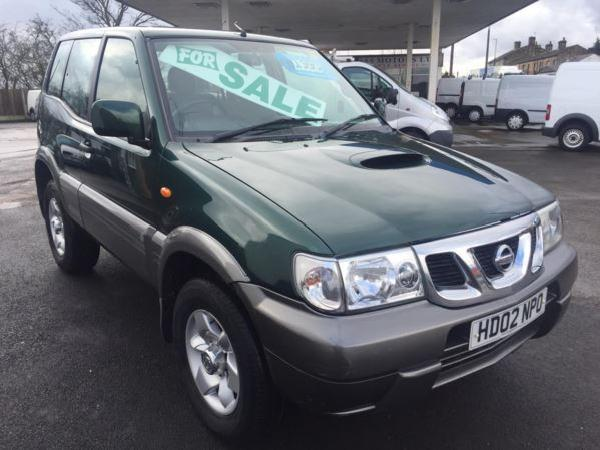number_plate: (456, 293, 563, 341)
